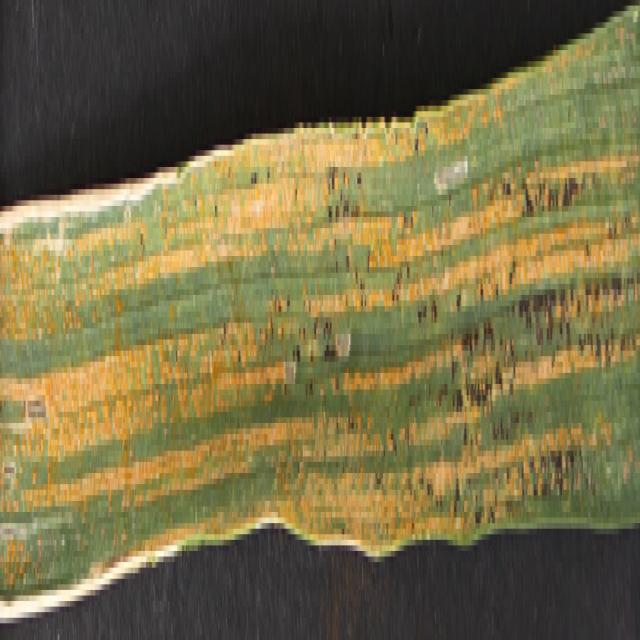leaf rust: (1, 67, 640, 573)
